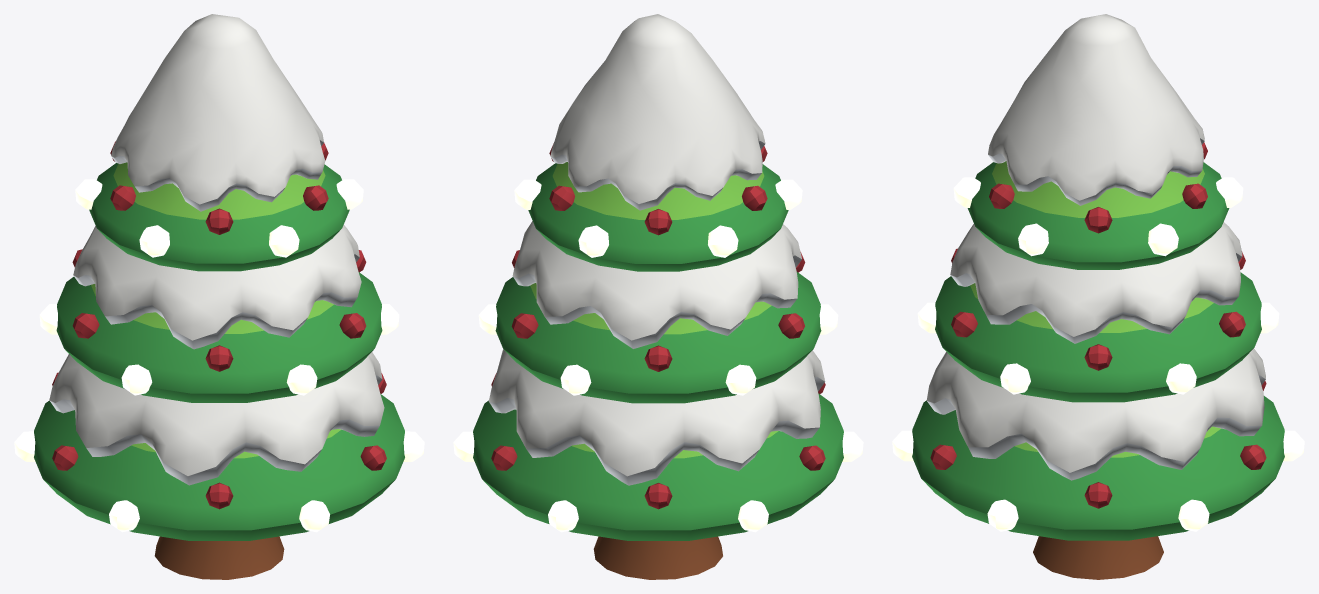
The model's file is arvore_natal_externa_neve_grande_pacote.glb.
The picture shows the model from 3 angles, left to right: view 1: azimuth 30°, elevation 25°; view 2: azimuth 150°, elevation 25°; view 3: azimuth 270°, elevation 25°; orthographic projection.
Parts seen in each view (by area): view 1: arvore_natal_externa_neve_grande_pacote; view 2: arvore_natal_externa_neve_grande_pacote; view 3: arvore_natal_externa_neve_grande_pacote.
Part boxes in pixels (x1,y1,x2,y2): arvore_natal_externa_neve_grande_pacote: (14, 14, 424, 579); arvore_natal_externa_neve_grande_pacote: (453, 14, 863, 579); arvore_natal_externa_neve_grande_pacote: (892, 14, 1304, 579).
Size of the model in its own units: 2.66 by 4.11 by 2.86.
2 materials, 1 textured.
